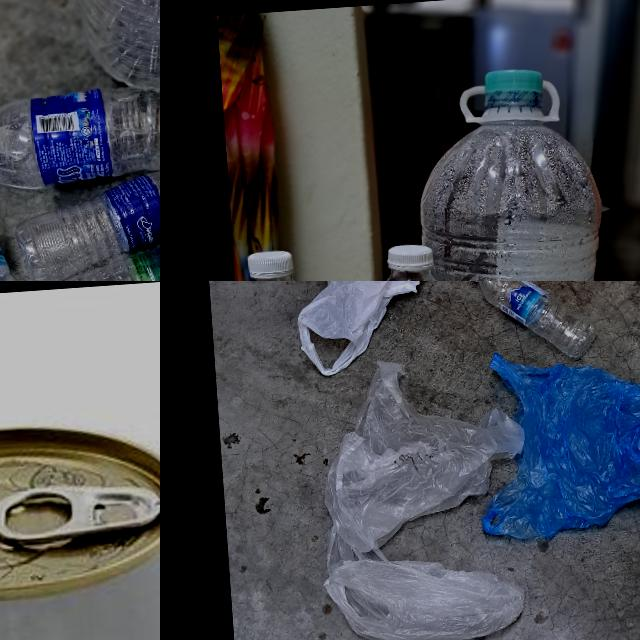aba de lata: (0, 474, 160, 553)
garrafa plástica: (418, 112, 617, 281), (0, 74, 160, 182), (19, 170, 160, 280), (58, 0, 160, 102), (476, 281, 596, 364), (41, 243, 160, 281)
lata: (0, 414, 160, 640)
sacola plástica: (314, 353, 532, 556), (469, 341, 640, 543), (257, 281, 486, 381), (321, 549, 528, 640)
tampa plástica: (482, 64, 546, 110), (246, 249, 297, 281), (385, 241, 434, 274)
